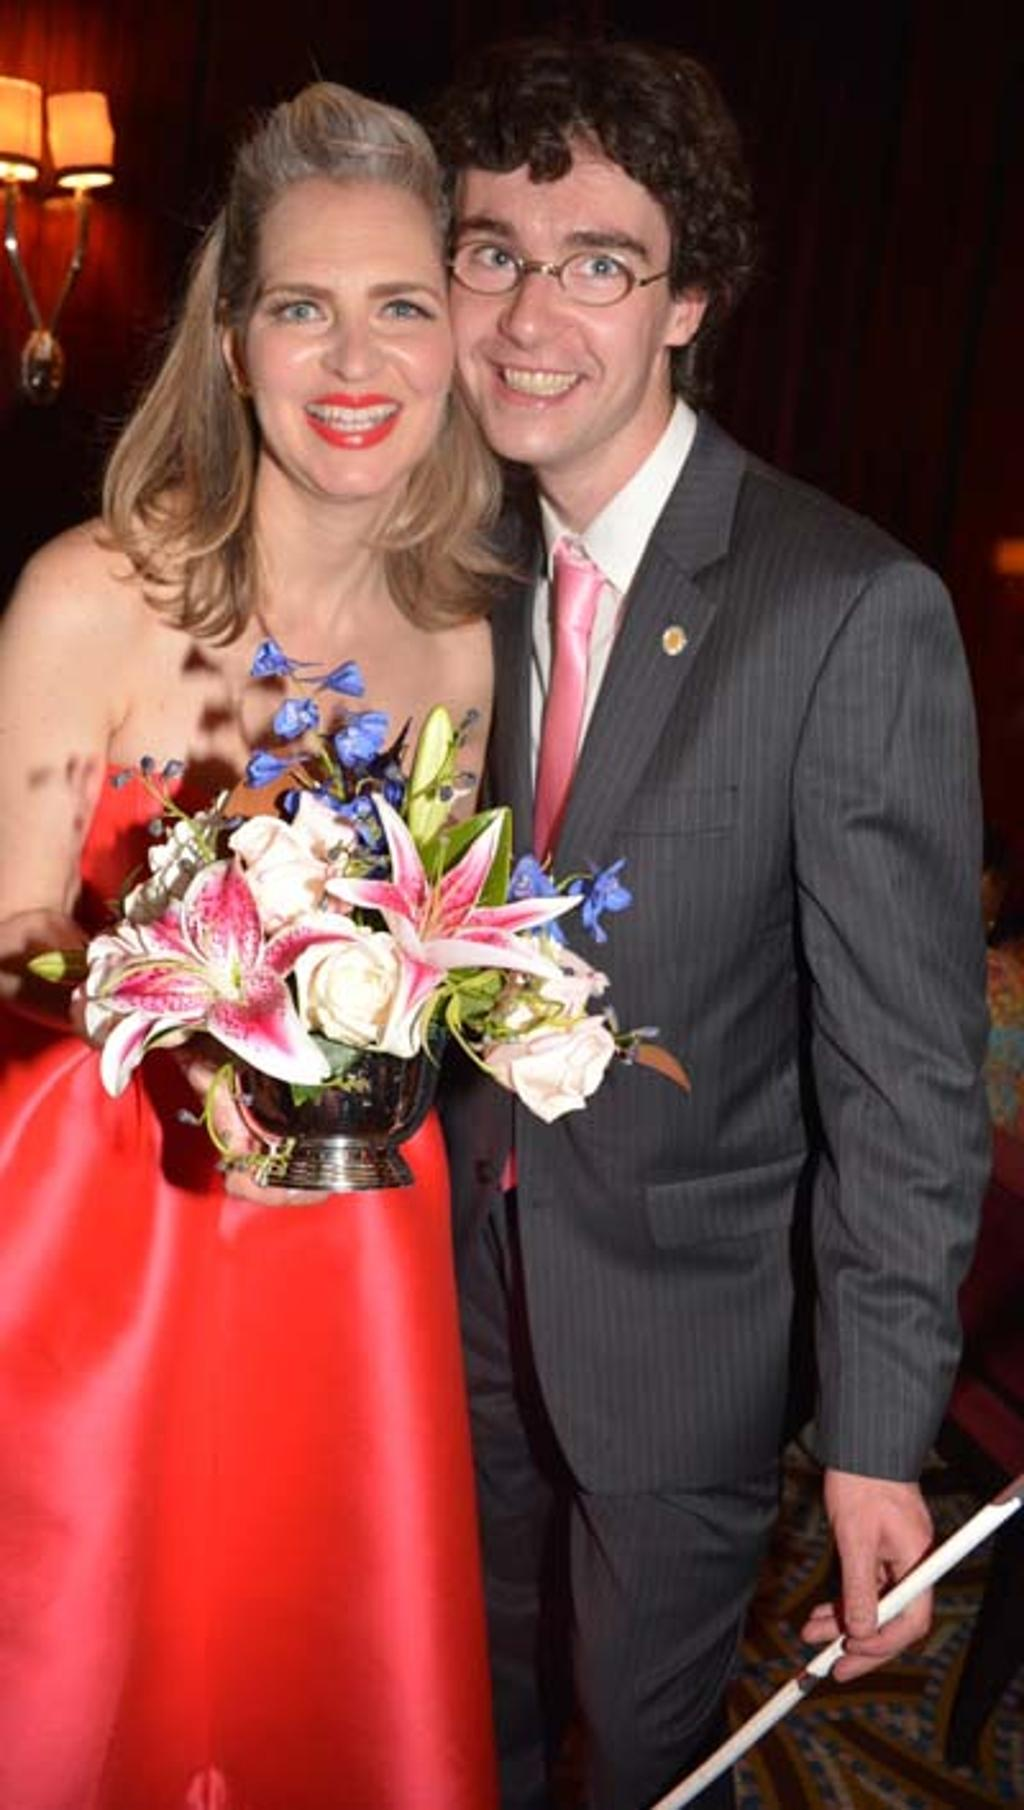face: (251, 162, 449, 497), (456, 155, 668, 462)
